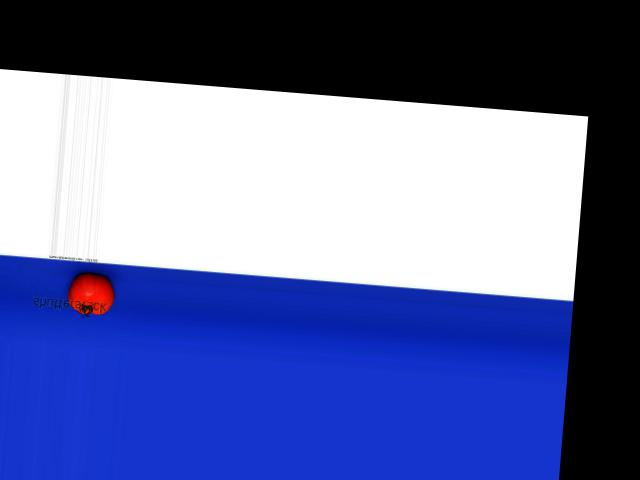tomato: (67, 271, 117, 316)
